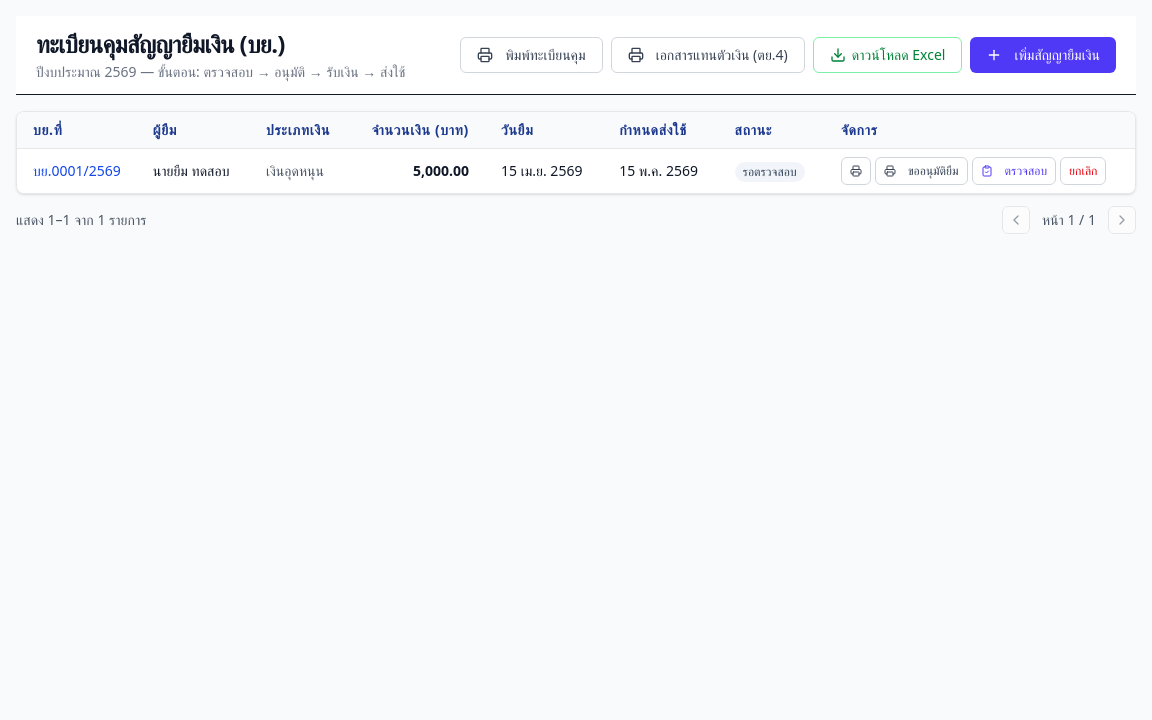
it: หน้า LoanAgreement (เงินยืม) — mock layer › คลิก "เพิ่มสัญญายืมเงิน" → เปิดฟอร์มสร้าง
Check: the text "บย.0001/2569" is shown, box [33, 161, 121, 180]
Click the button "เพิ่มสัญญายืมเงิน" at (1043, 55), box [970, 37, 1116, 73]
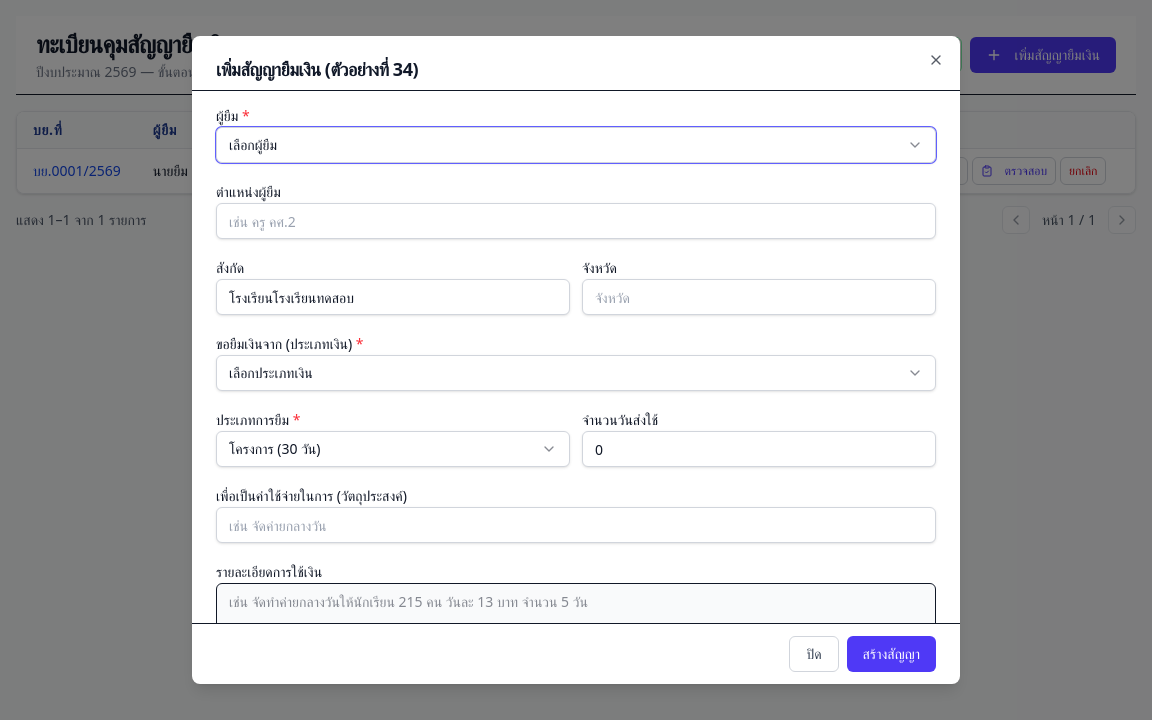
Check: the heading "เพิ่มสัญญายืมเงิน (ตัวอย่างที่ 34)" is shown, box [216, 57, 418, 81]
